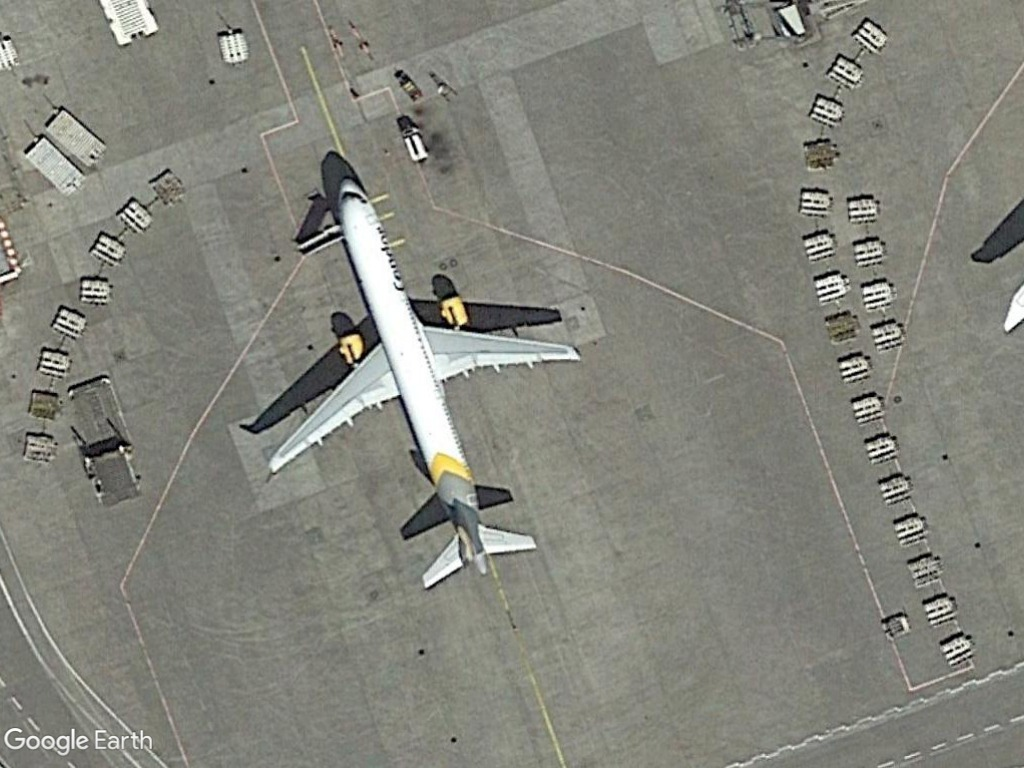airliner: (258, 158, 605, 600)
